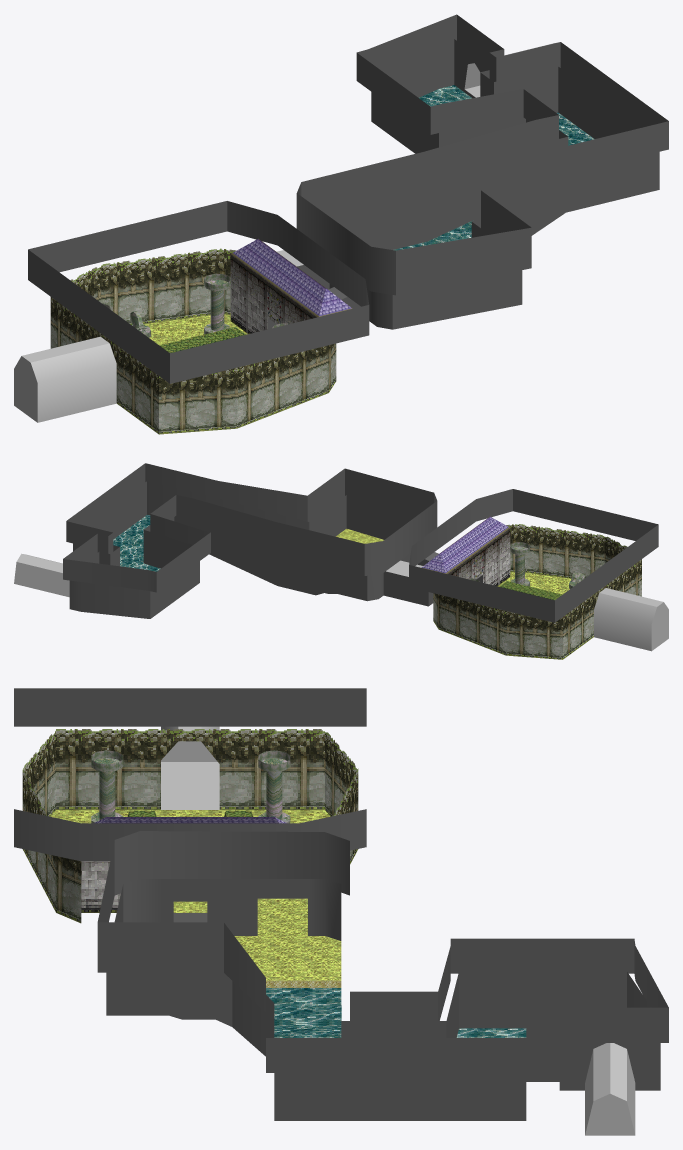
File: new_e0m1rev2.fbx
3 renders of one model, top to bottom at view 1: azimuth 30°, elevation 25°; view 2: azimuth 150°, elevation 25°; view 3: azimuth 270°, elevation 25°, orthographic. The views are drawn at different scales.
Parts seen in each view (by area): view 1: No Colision Main, Colision Main; view 2: Colision Main, No Colision Main; view 3: Colision Main, No Colision Main.
Boxes of the visible parts, x1=… form: No Colision Main: x1=28, y1=14, x2=668, y2=383; Colision Main: x1=14, y1=39, x2=659, y2=434; Colision Main: x1=14, y1=481, x2=668, y2=659; No Colision Main: x1=63, y1=463, x2=658, y2=622; Colision Main: x1=22, y1=726, x2=660, y2=1135; No Colision Main: x1=14, y1=688, x2=668, y2=1072.
Bounding box in the file's own units: 7696 × 1120 × 4992.
